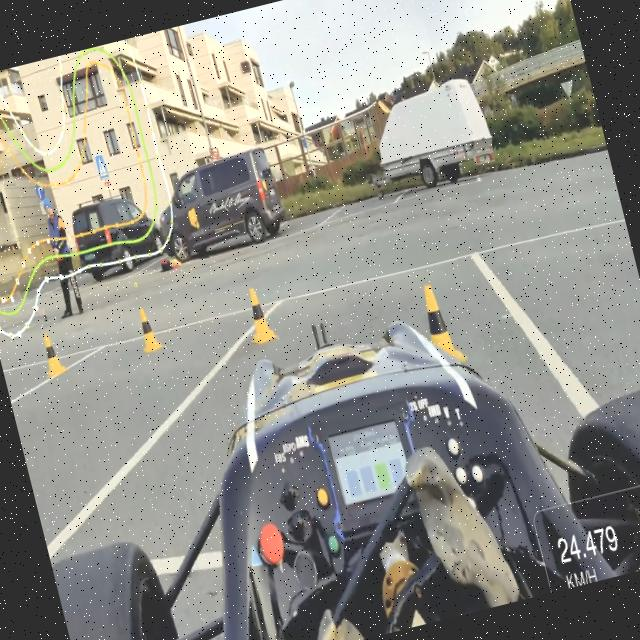yellow_cone: (416, 272, 467, 366), (238, 281, 280, 348), (126, 301, 166, 358), (37, 326, 70, 382)
